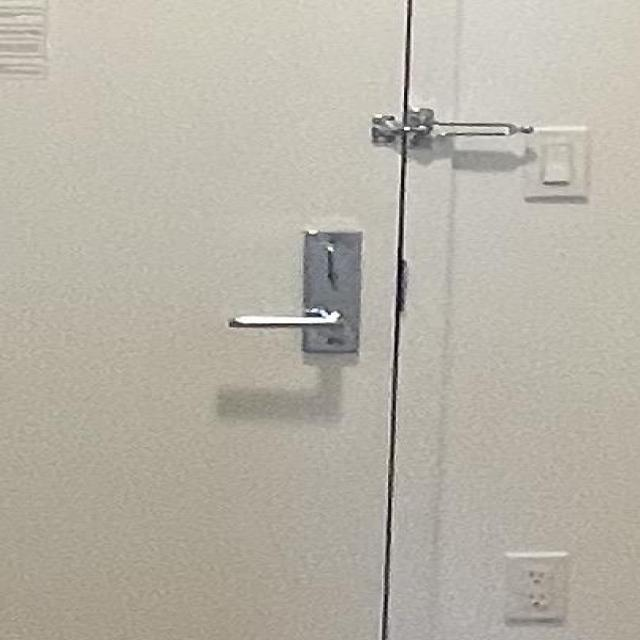door_handle: (218, 300, 378, 347)
